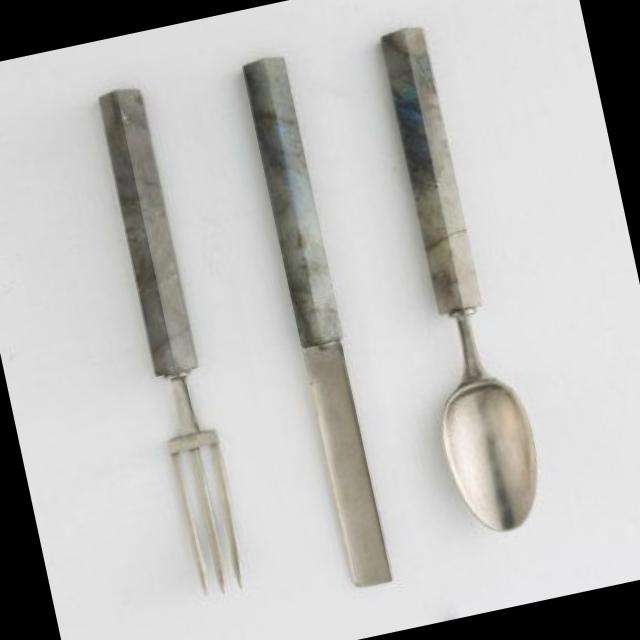fork: (79, 81, 270, 611)
spoon: (359, 18, 567, 555)
